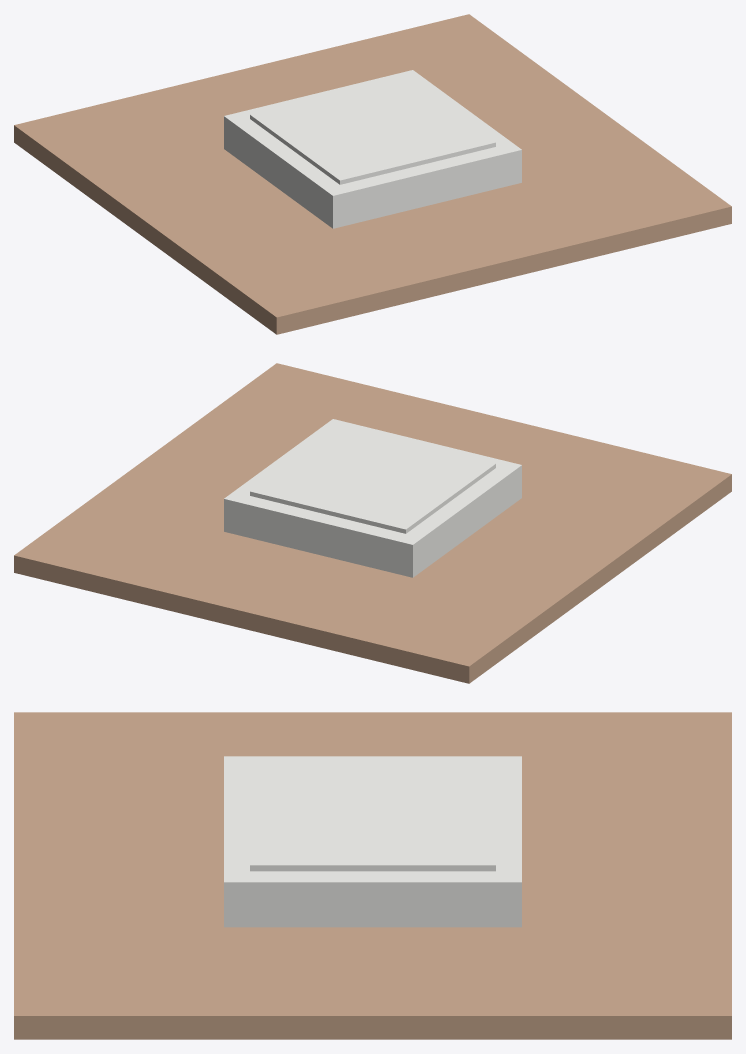
The model's file is baseball-park-and-batting-cages-base-bag-409a7dde__33745.glb.
3 renders of one model, top to bottom at view 1: azimuth 30°, elevation 25°; view 2: azimuth 150°, elevation 25°; view 3: azimuth 270°, elevation 25°, orthographic. The views are drawn at different scales.
Visible parts, largest first — view 1: base-bag; view 2: base-bag; view 3: base-bag.
Part boxes in pixels (x1,y1,x2,y2): base-bag: (14, 14, 731, 334); base-bag: (14, 363, 731, 683); base-bag: (14, 712, 731, 1039).
Size of the model in its own units: 1.1 by 0.126 by 1.1.
